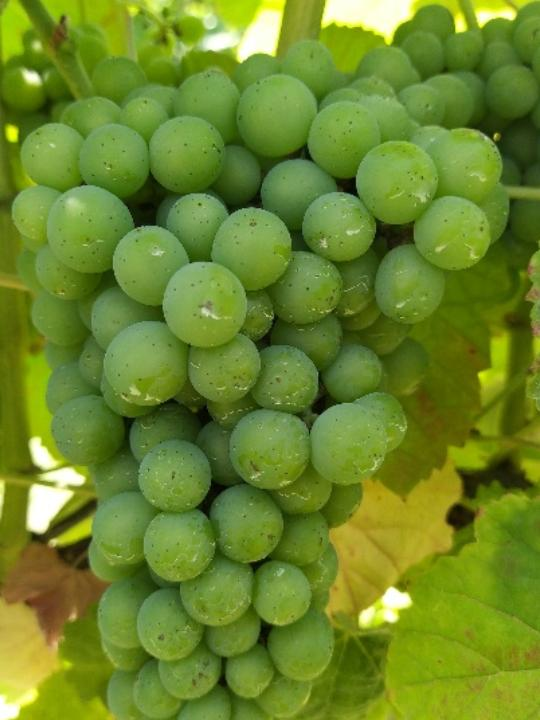grape: (10, 66, 513, 720)
